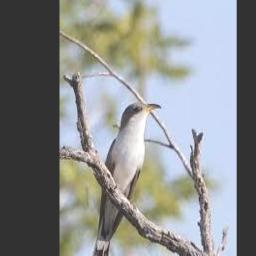Cuckoo: (89, 103, 161, 256)
